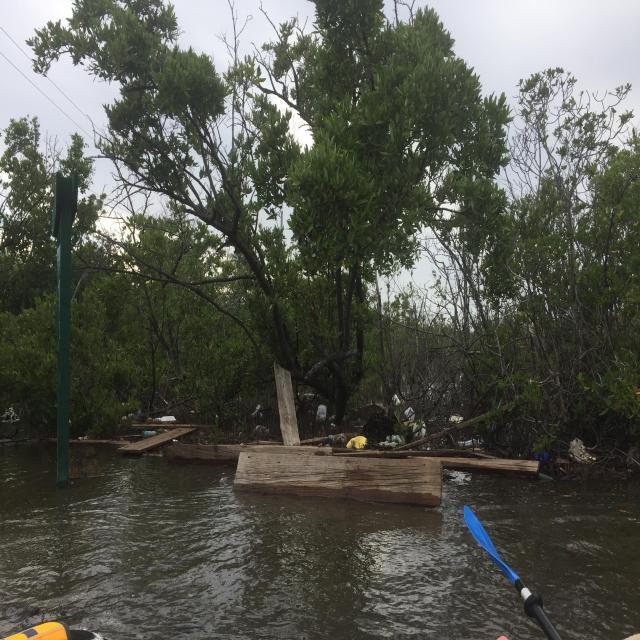litter: (413, 419, 432, 451), (319, 432, 348, 446), (380, 435, 405, 447), (346, 436, 368, 449), (1, 407, 20, 422), (458, 438, 479, 447), (251, 404, 263, 418), (403, 407, 415, 421), (316, 404, 326, 420), (447, 416, 464, 424), (254, 425, 267, 434), (142, 431, 158, 437), (393, 393, 401, 405), (158, 416, 177, 421), (78, 435, 87, 439)
